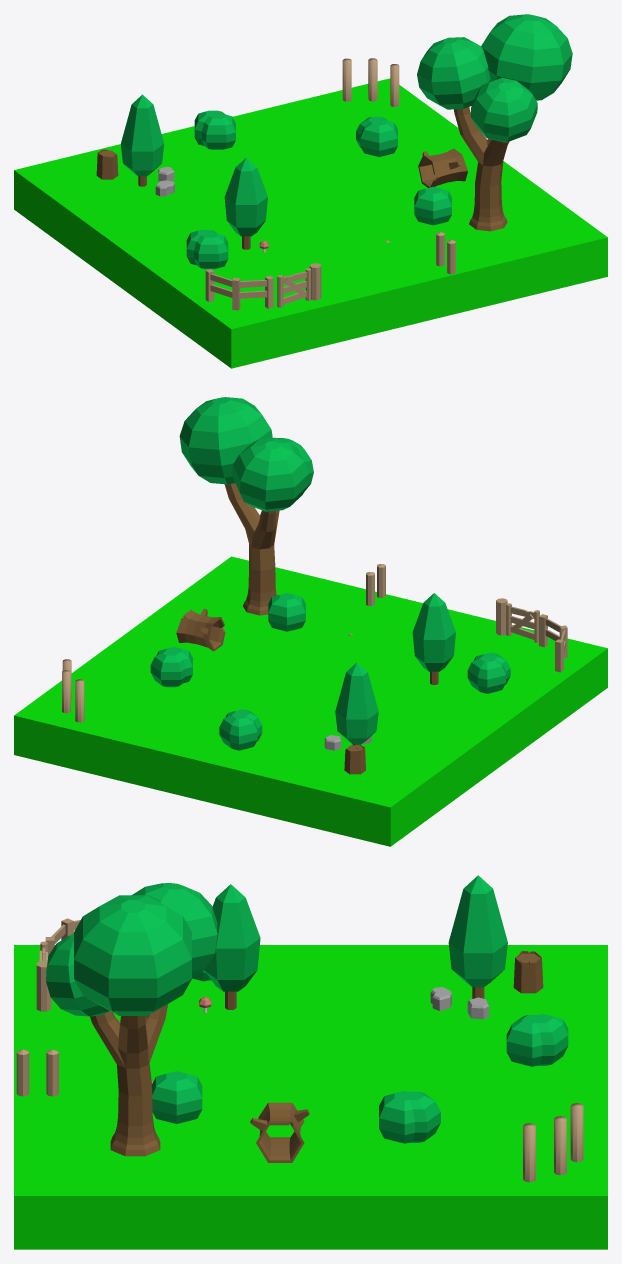
The model's file is island_0.fbx.
The picture shows the model from 3 angles, top to bottom: view 1: azimuth 30°, elevation 25°; view 2: azimuth 150°, elevation 25°; view 3: azimuth 270°, elevation 25°; orthographic projection. The views are drawn at different scales.
Visible parts, largest first — view 1: Island__0_, object1_5, object1_6, object1_14; view 2: Island__0_, object1_5, object1_6; view 3: Island__0_, object1_5, object1_6, object1_14.
Part boxes in pixels (x1,y1,x2,y2): Island__0_: (14,78,607,368); object1_5: (96,14,572,269); object1_6: (205,58,455,310); object1_14: (155,166,389,252); Island__0_: (14,556,607,846); object1_5: (150,397,510,774); object1_6: (62,564,567,722); Island__0_: (14,945,607,1249); object1_5: (46,875,568,1162); object1_6: (16,918,583,1182); object1_14: (151,987,488,1083).
Size of the model in its own units: 1000 by 600 by 1000.
Materials: 1 (1 with a texture image).
